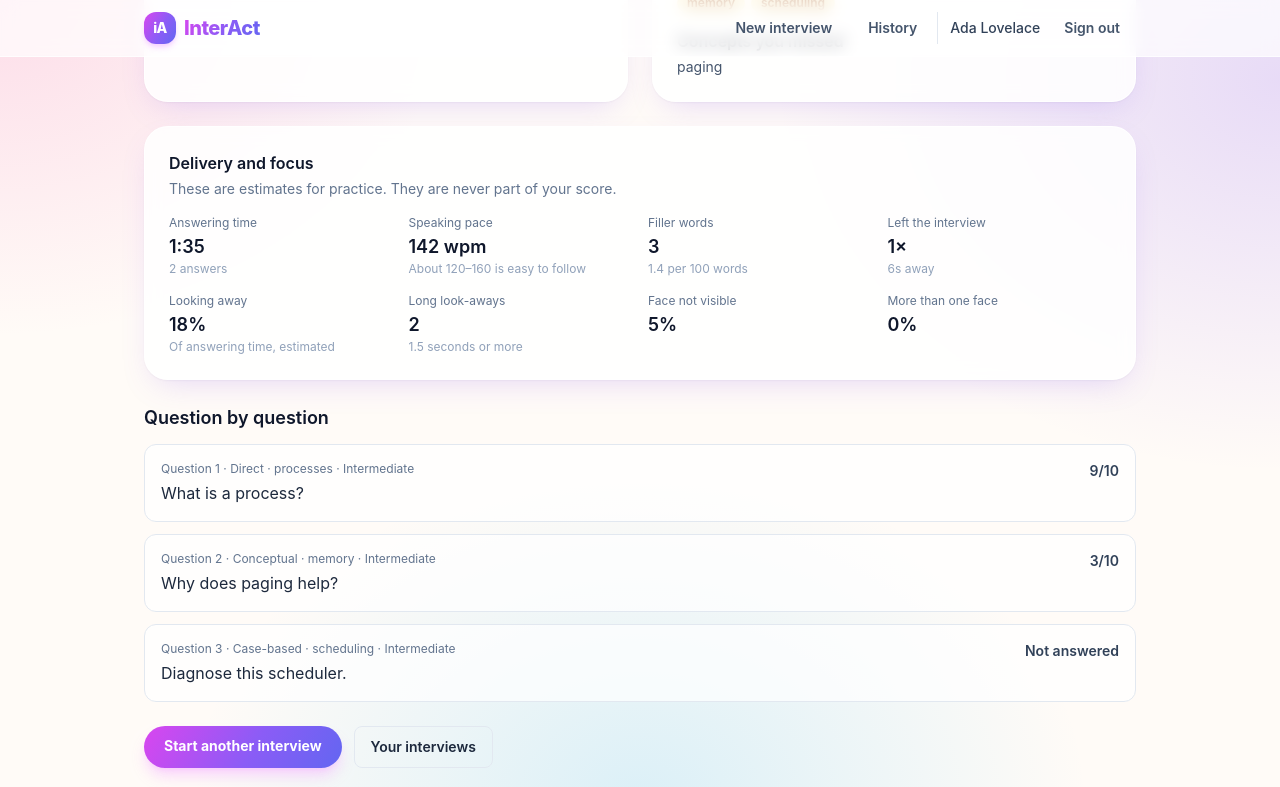
Test: report page › shows where a document question comes from, the pass rate, and points sorted by source
(page scrolled)
Click the text "What is a process?": (232,493) [161, 483, 304, 503]
(page scrolled)
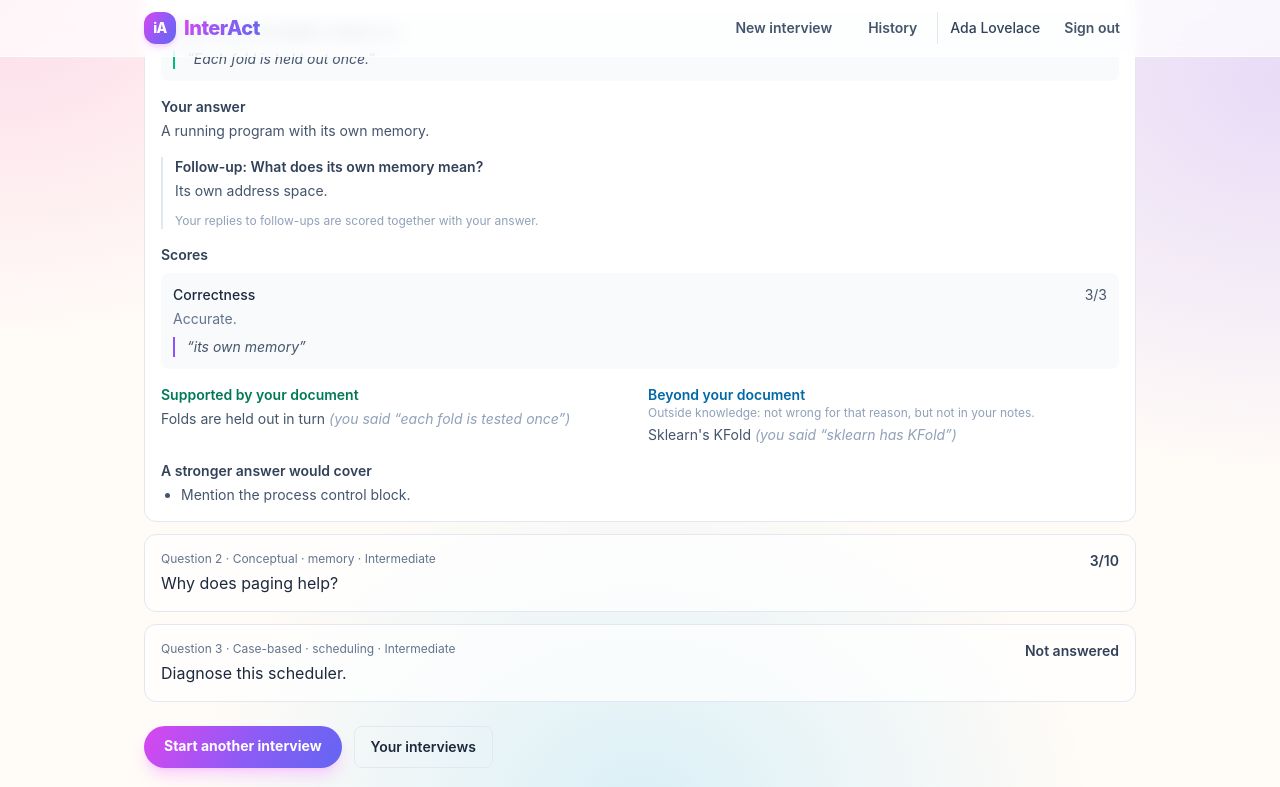
Result: the text "“Each fold is held out once.”" is shown at [173, 49, 1107, 69]
Result: the heading "Supported by your document" is shown at [161, 386, 359, 403]
Result: the list item "Folds are held out in turn" is shown at [161, 410, 325, 427]
Click the text "Why does paging help?": (250,583) [161, 573, 338, 593]
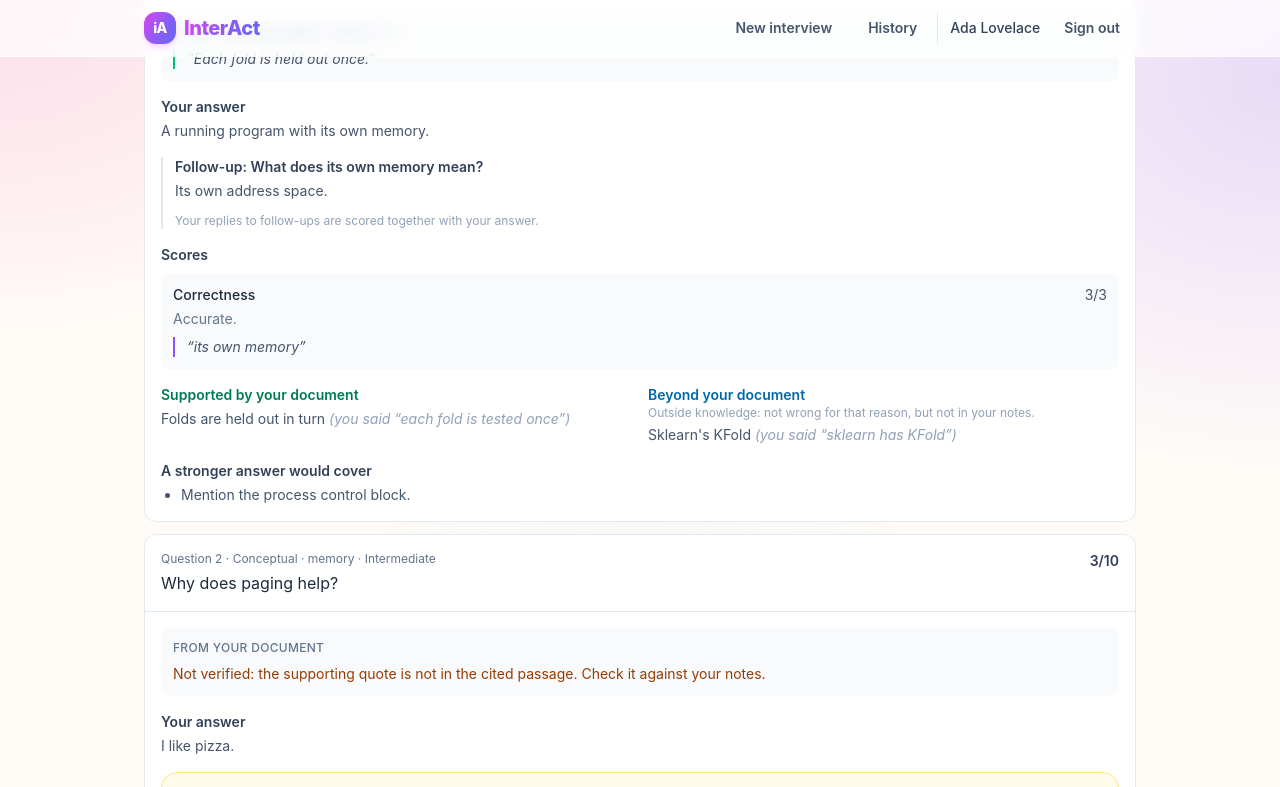
Result: the text "Not verified: the supporting quote is not in the cited passage" is shown at [173, 665, 766, 682]
